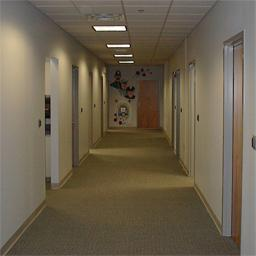Puerta: (231, 41, 243, 237)
